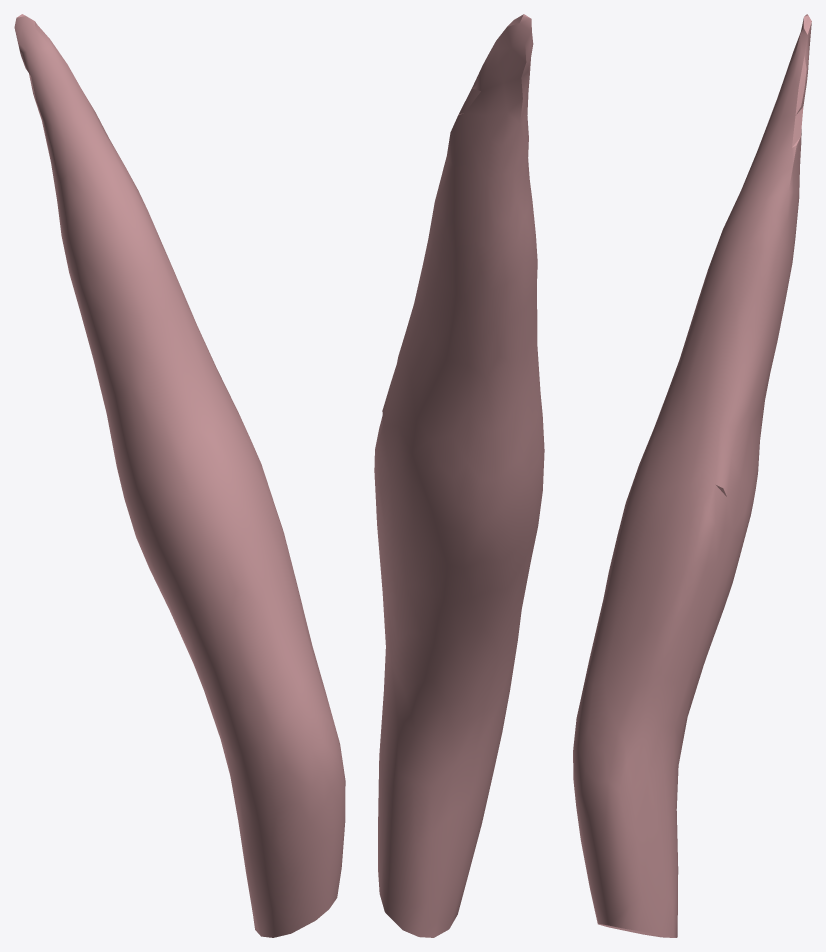
File: fma46202_mm1953m.glb
3 renders of one model, left to right at view 1: azimuth 30°, elevation 25°; view 2: azimuth 150°, elevation 25°; view 3: azimuth 270°, elevation 25°, orthographic. The views are drawn at different scales.
Visible parts, largest first — view 1: FMA46202_MM1953M; view 2: FMA46202_MM1953M; view 3: FMA46202_MM1953M.
Boxes of the visible parts, <box> form: FMA46202_MM1953M: <box>14,14,345,937</box>; FMA46202_MM1953M: <box>374,14,544,937</box>; FMA46202_MM1953M: <box>573,14,811,937</box>.
Bounding box in the file's own units: 0.0139 × 0.0523 × 0.0133.
